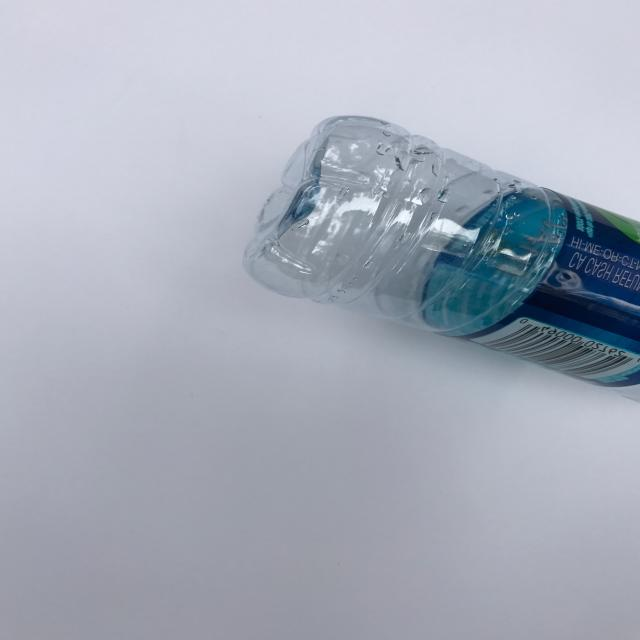plastic: (242, 113, 640, 406)
